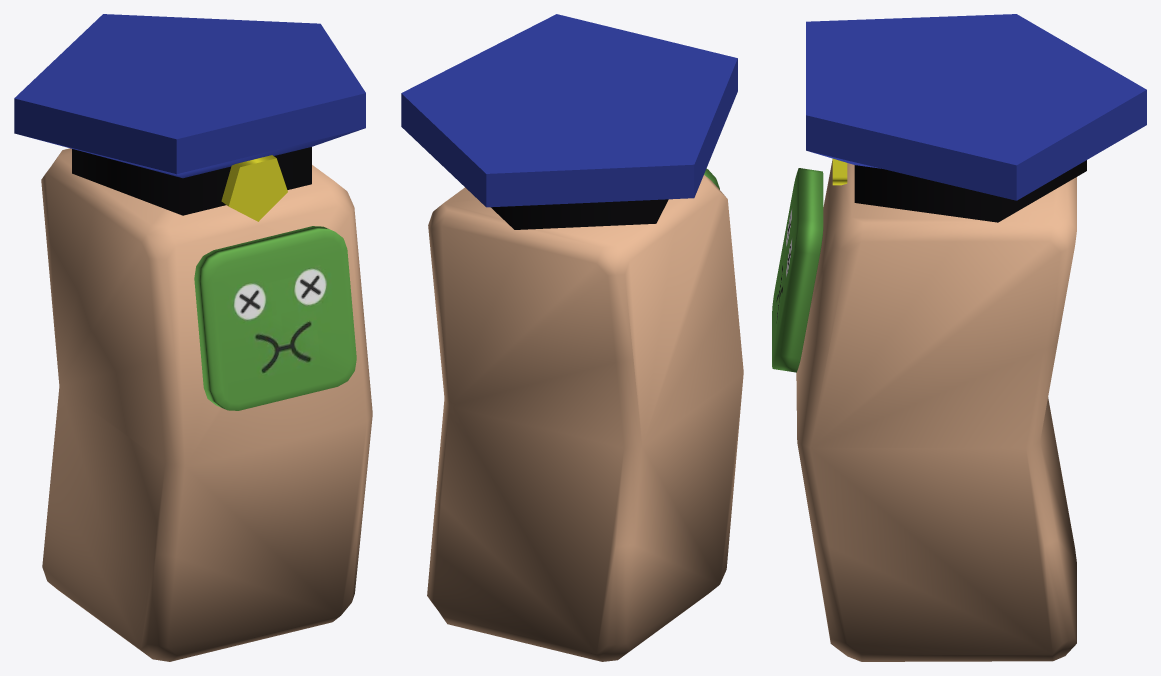
Rendered from FingerV6.fbx.
3 views of the same model, side by side, from view 1: azimuth 30°, elevation 25°; view 2: azimuth 150°, elevation 25°; view 3: azimuth 270°, elevation 25° (orthographic). The views are drawn at different scales.
Visible parts, largest first — view 1: Cube.019, Cylinder.021, Cube.020; view 2: Cube.019, Cylinder.021; view 3: Cube.019, Cylinder.021, Cube.020.
Part boxes in pixels (x1=…): Cube.019: x1=41, y1=148, x2=372, y2=661; Cylinder.021: x1=14, y1=14, x2=365, y2=221; Cube.020: x1=194, y1=226, x2=356, y2=410; Cube.019: x1=427, y1=175, x2=743, y2=661; Cylinder.021: x1=401, y1=14, x2=737, y2=229; Cube.019: x1=796, y1=159, x2=1076, y2=661; Cylinder.021: x1=806, y1=14, x2=1146, y2=222; Cube.020: x1=772, y1=168, x2=823, y2=372.
Size of the model in its own units: 43.12 by 41.23 by 69.53.
